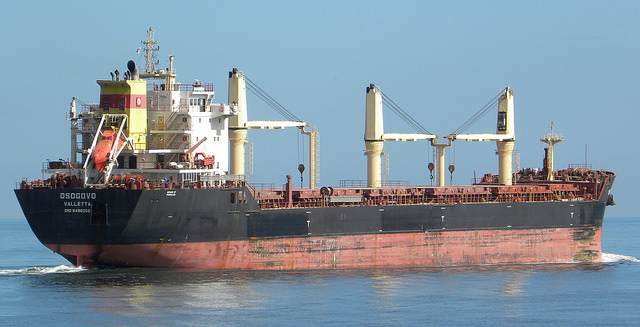bulk carrier: (15, 23, 616, 264)
